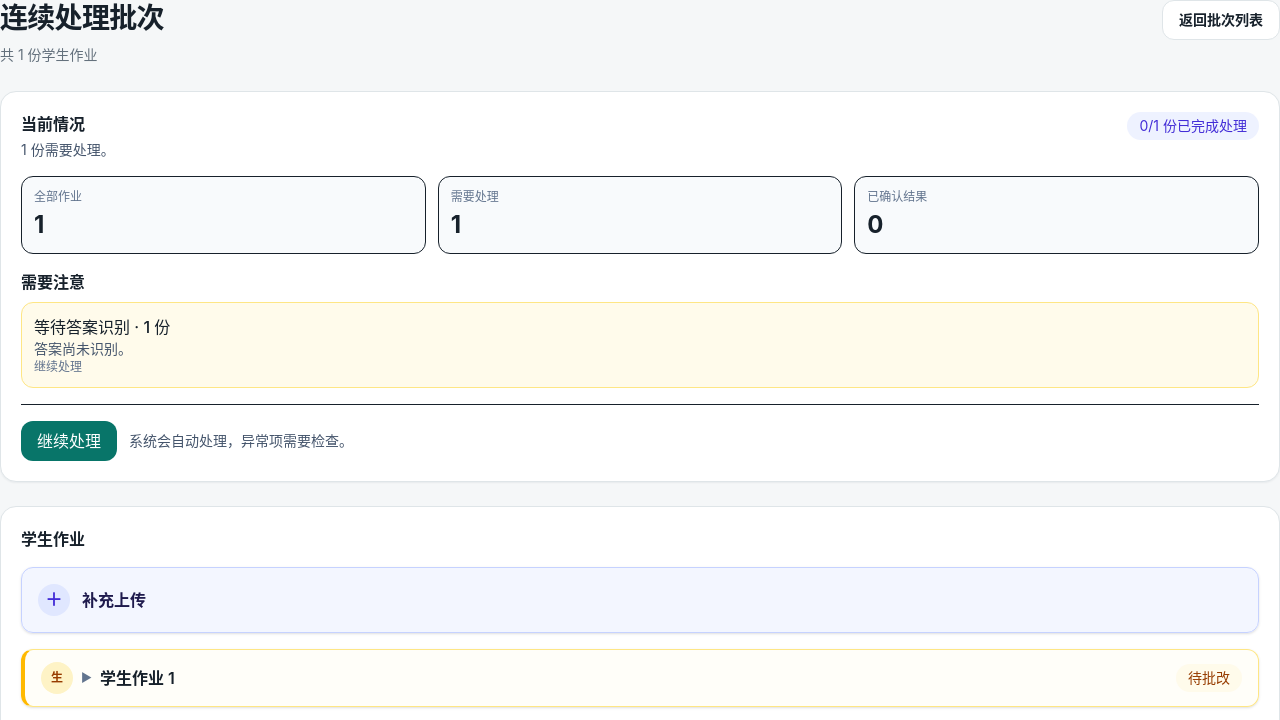
links to explicit teacher review without presenting suggestions as final grades
What coordinates should you click on to do the following:
click the button with test id "continue-processing-to-teacher-review"
I would click on:
 (69, 441)
Its box is left=21, top=421, right=117, bottom=461.
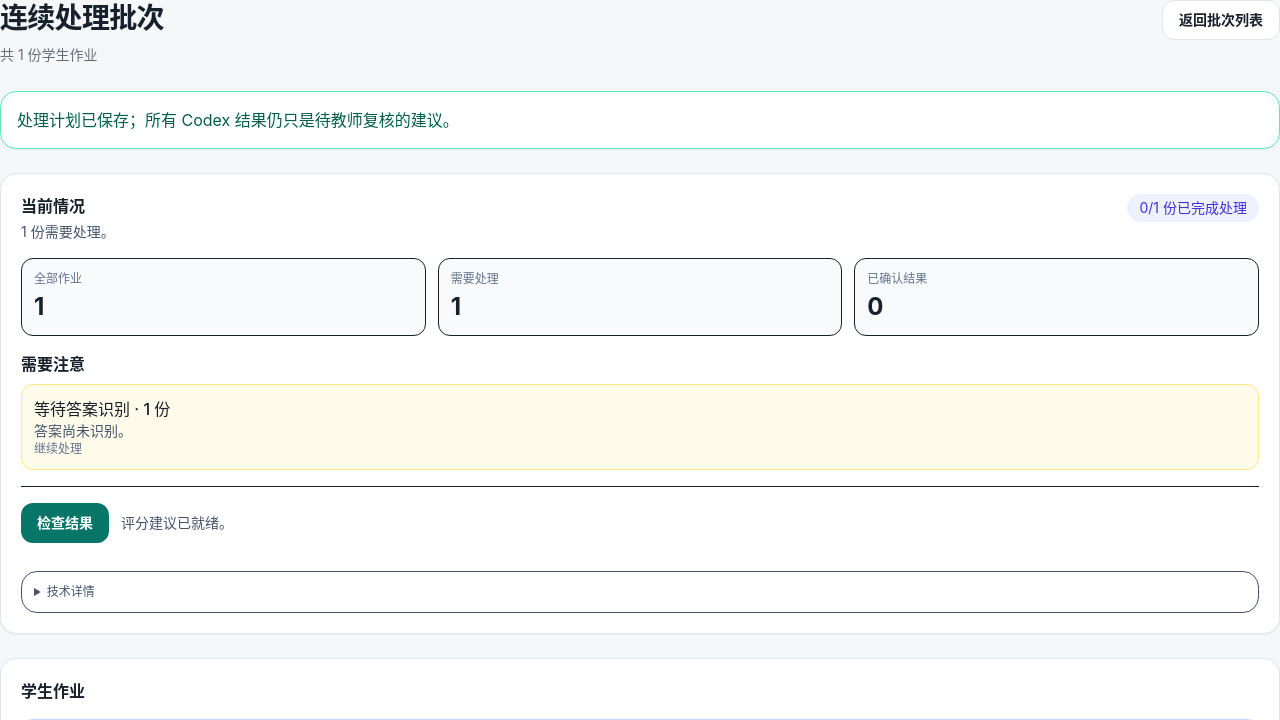
Expected: the link with test id "open-teacher-review" reads "检查结果", left=21, top=503, right=109, bottom=543
